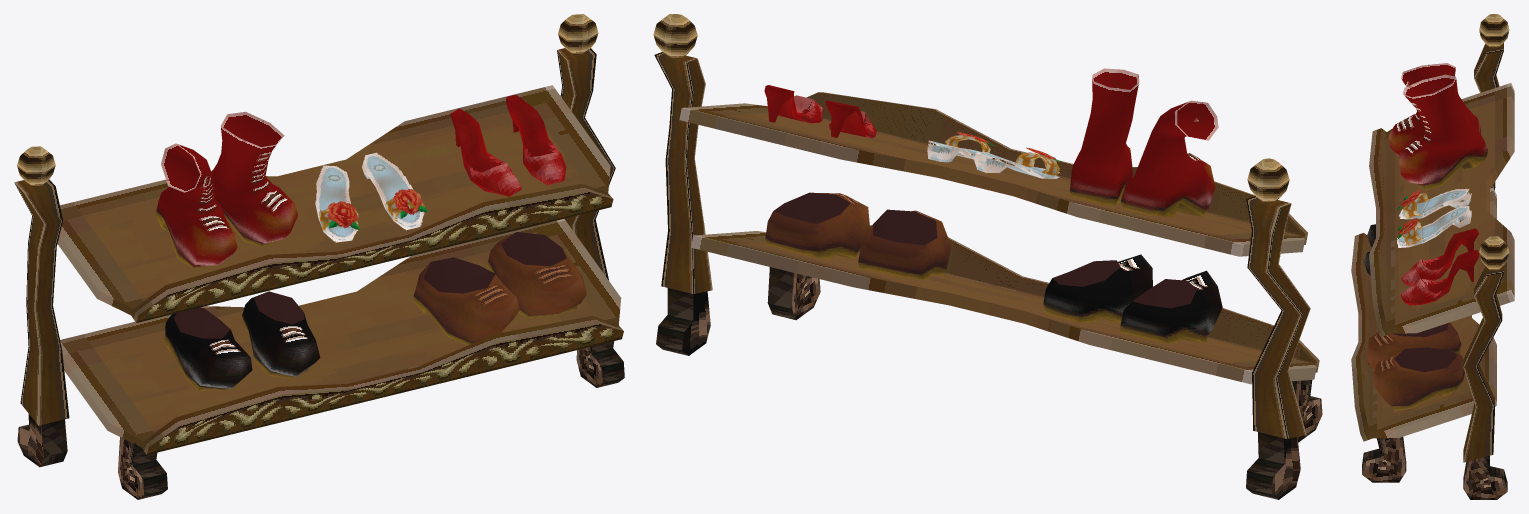
Rendered from kutu38-1.glb.
3 renders of one model, left to right at view 1: azimuth 30°, elevation 25°; view 2: azimuth 150°, elevation 25°; view 3: azimuth 270°, elevation 25°, orthographic. The views are drawn at different scales.
Visible parts, largest first — view 1: kutu38_1; view 2: kutu38_1; view 3: kutu38_1.
Part boxes in pixels (x1=…): kutu38_1: x1=14, y1=14, x2=624, y2=499; kutu38_1: x1=653, y1=14, x2=1322, y2=499; kutu38_1: x1=1351, y1=14, x2=1514, y2=499.
Bounding box in the file's own units: 318 × 165 × 92.
Materials: 14 (14 with a texture image).
